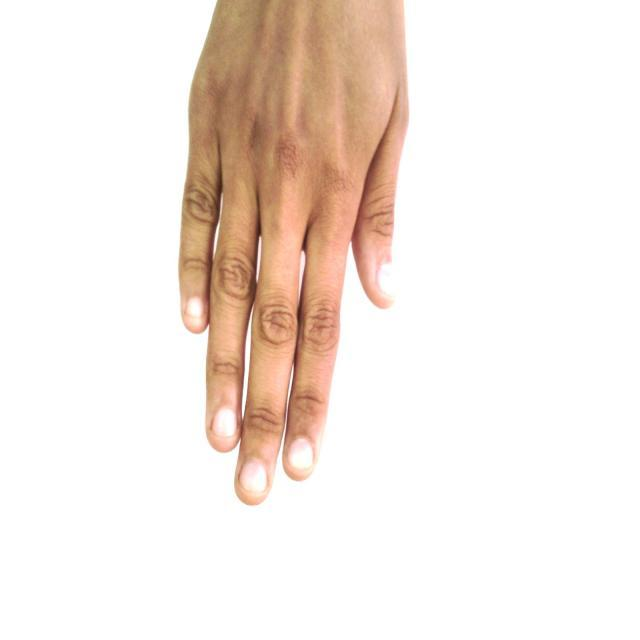Fingernail: (241, 461, 266, 493), (289, 439, 313, 470), (214, 409, 237, 437), (378, 263, 395, 295), (186, 299, 203, 321)
